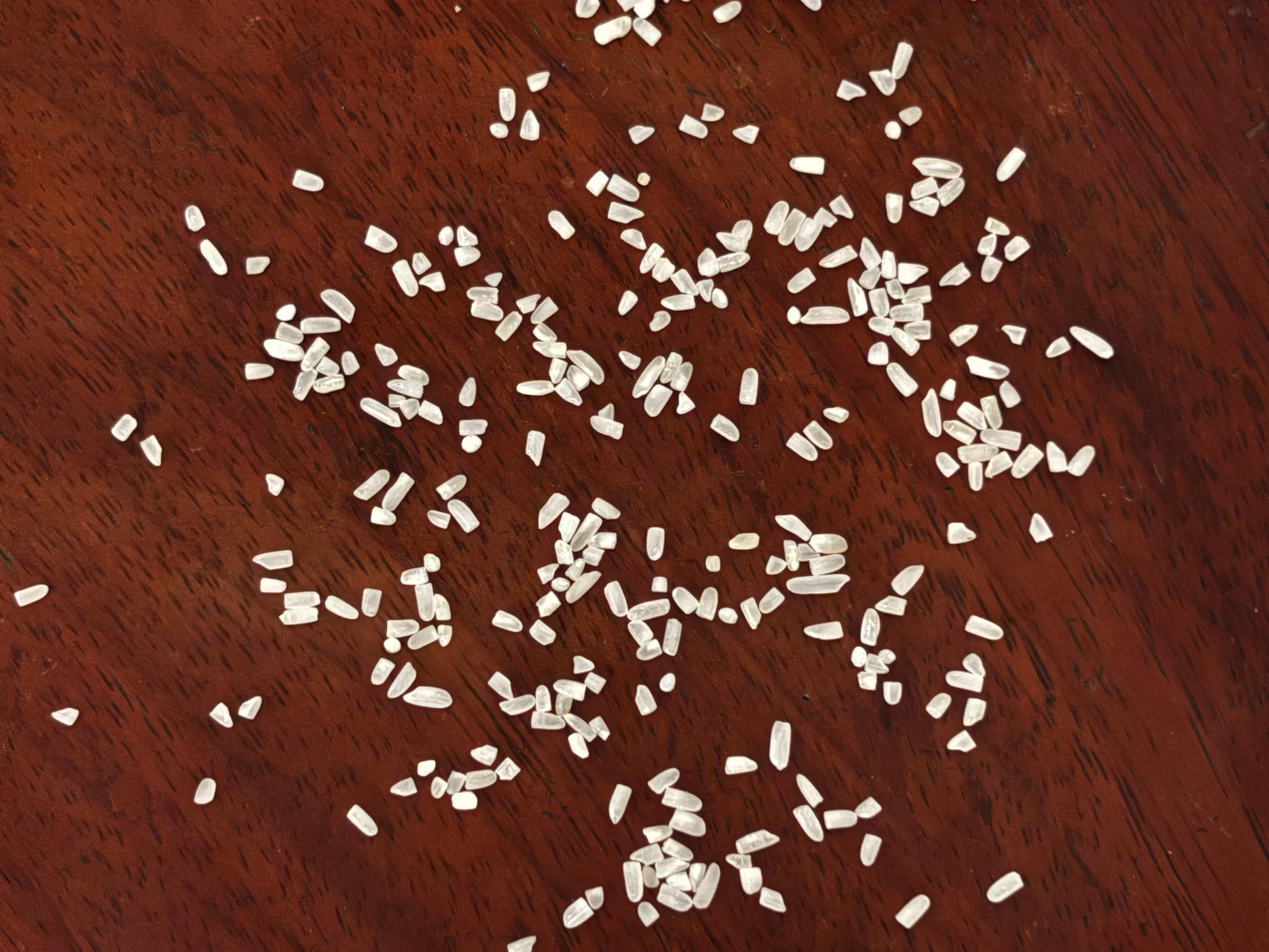Rice-th-y-nh: (785, 565, 851, 606), (761, 719, 798, 772), (403, 678, 453, 717), (912, 150, 964, 186), (689, 862, 727, 911), (565, 345, 608, 387), (697, 246, 751, 279), (631, 352, 667, 401), (978, 419, 1023, 457), (1069, 323, 1115, 360), (985, 867, 1025, 908), (915, 388, 947, 439), (735, 824, 779, 861), (801, 299, 850, 332), (380, 470, 416, 514), (569, 510, 604, 555), (894, 891, 932, 932), (791, 801, 827, 844), (626, 593, 671, 627), (667, 804, 707, 842), (535, 490, 571, 532), (661, 781, 703, 817), (1009, 440, 1044, 483), (445, 496, 482, 536), (964, 609, 1004, 646), (889, 560, 925, 601), (617, 858, 649, 904), (319, 286, 357, 324), (263, 333, 305, 367), (965, 353, 1011, 384), (359, 396, 402, 429), (565, 568, 602, 606), (775, 207, 810, 247), (604, 782, 636, 825), (656, 881, 694, 917), (818, 240, 858, 274), (592, 13, 633, 46), (884, 361, 920, 398), (352, 468, 391, 502), (363, 221, 398, 258), (792, 215, 825, 254), (601, 579, 633, 619), (773, 511, 814, 542), (957, 438, 999, 468), (253, 545, 295, 575), (941, 415, 978, 449), (561, 894, 594, 932), (945, 665, 984, 697), (386, 661, 418, 700), (642, 381, 674, 420), (808, 549, 847, 581), (299, 310, 342, 339), (804, 615, 844, 646), (279, 600, 319, 631), (842, 277, 872, 318), (345, 803, 380, 838), (562, 710, 598, 744), (299, 335, 331, 373), (994, 146, 1026, 184), (499, 689, 537, 721), (606, 197, 644, 229), (809, 527, 848, 558), (855, 607, 885, 647), (734, 366, 763, 407), (762, 198, 792, 237), (391, 258, 420, 298), (887, 41, 916, 81), (955, 400, 990, 433), (646, 764, 681, 797), (411, 582, 439, 623), (290, 365, 320, 403), (516, 373, 555, 402), (282, 585, 321, 614), (801, 419, 835, 452), (661, 833, 695, 866), (659, 617, 687, 657), (937, 259, 972, 291), (605, 172, 641, 203), (794, 772, 824, 809), (530, 706, 567, 736), (199, 238, 228, 276), (694, 585, 723, 623), (888, 325, 921, 358), (785, 430, 819, 462), (670, 583, 702, 617), (977, 393, 1006, 430), (641, 525, 670, 562), (856, 831, 885, 868), (867, 66, 899, 99), (553, 674, 587, 705), (823, 804, 858, 834), (630, 838, 665, 868), (790, 151, 826, 180), (521, 429, 549, 466), (983, 448, 1014, 481), (935, 176, 966, 209), (491, 606, 524, 637), (464, 765, 498, 795), (959, 695, 989, 729), (757, 883, 787, 917), (1066, 444, 1096, 478), (874, 590, 908, 620), (1026, 511, 1056, 545), (661, 288, 696, 317), (855, 236, 884, 271), (723, 750, 758, 779), (889, 298, 924, 327), (385, 613, 420, 642), (654, 854, 690, 882), (468, 298, 504, 326), (945, 518, 977, 549), (486, 669, 516, 702), (407, 623, 440, 653), (895, 258, 928, 288), (528, 616, 558, 649), (531, 337, 569, 363), (387, 375, 425, 401), (494, 309, 523, 343), (324, 594, 360, 621), (948, 319, 979, 350), (631, 16, 662, 47), (909, 172, 940, 203), (709, 412, 741, 442), (436, 472, 468, 502), (924, 689, 953, 722), (737, 864, 766, 897), (757, 584, 786, 617), (1042, 440, 1070, 474), (632, 683, 660, 717), (738, 596, 765, 631), (589, 414, 624, 441), (658, 350, 685, 385), (669, 360, 696, 395), (494, 86, 520, 122), (553, 377, 584, 407), (625, 617, 655, 648), (946, 726, 977, 756), (547, 209, 576, 241), (835, 75, 867, 104), (534, 588, 562, 621), (715, 228, 748, 256), (901, 281, 934, 309), (313, 370, 346, 398), (638, 241, 665, 275), (555, 509, 582, 543), (866, 285, 893, 319), (670, 268, 700, 298), (13, 583, 49, 608), (1002, 233, 1031, 264), (274, 319, 305, 348), (469, 740, 500, 769), (516, 109, 543, 142), (397, 362, 431, 388), (529, 297, 559, 326), (787, 266, 817, 295), (853, 793, 883, 822), (903, 316, 934, 344), (678, 113, 709, 141), (933, 449, 961, 480), (961, 650, 989, 681), (642, 820, 674, 847), (728, 528, 760, 555), (358, 586, 385, 618), (369, 655, 396, 687), (997, 378, 1023, 411), (695, 245, 721, 278), (882, 191, 907, 225), (867, 312, 897, 340), (635, 899, 662, 930), (650, 254, 677, 285), (590, 496, 622, 522), (978, 253, 1004, 285), (457, 413, 489, 439), (729, 216, 755, 248), (139, 434, 164, 467), (466, 280, 499, 305), (450, 787, 479, 815), (110, 413, 138, 442), (856, 262, 884, 291), (453, 242, 482, 270), (1045, 333, 1073, 362), (244, 358, 275, 384), (685, 860, 710, 892), (908, 194, 941, 218), (636, 636, 664, 664), (494, 755, 522, 783), (619, 226, 648, 253), (588, 528, 618, 554), (456, 376, 480, 408), (417, 399, 445, 426), (732, 121, 760, 148), (880, 678, 906, 707), (865, 339, 891, 368), (390, 774, 419, 800), (373, 340, 399, 369), (429, 593, 454, 623), (713, 0, 743, 25), (779, 538, 801, 572), (963, 461, 987, 492), (1001, 320, 1028, 347), (244, 251, 271, 278), (828, 193, 854, 221), (337, 349, 363, 377), (419, 269, 447, 295), (551, 538, 576, 567), (566, 364, 591, 393), (399, 565, 429, 589), (193, 776, 217, 806), (878, 249, 901, 280), (531, 683, 554, 714), (314, 353, 340, 380), (811, 205, 838, 231), (898, 102, 924, 129), (582, 884, 607, 912), (725, 849, 753, 874), (983, 214, 1011, 239), (546, 356, 569, 386), (665, 870, 695, 893), (580, 543, 606, 569), (700, 100, 726, 126), (863, 652, 890, 677), (209, 702, 234, 729), (648, 308, 673, 335), (583, 669, 608, 696), (238, 694, 263, 721), (585, 170, 610, 197), (183, 204, 207, 232), (567, 731, 590, 760), (694, 275, 717, 304), (505, 932, 538, 952), (397, 395, 422, 421), (764, 553, 790, 578), (426, 506, 452, 531), (975, 231, 999, 258), (443, 769, 467, 796), (616, 289, 639, 317), (822, 403, 850, 426), (369, 505, 397, 528), (258, 575, 288, 596), (571, 652, 596, 677), (516, 292, 542, 316), (794, 541, 820, 565), (588, 714, 612, 740), (410, 250, 433, 277), (564, 557, 587, 584), (674, 390, 697, 417), (617, 348, 642, 372), (455, 224, 479, 248), (883, 277, 906, 302), (856, 668, 879, 693), (526, 70, 551, 93), (50, 707, 80, 726), (532, 322, 559, 343), (628, 124, 655, 145), (574, 0, 602, 20), (537, 561, 560, 585), (938, 377, 959, 403), (640, 864, 661, 890), (263, 473, 286, 496), (709, 286, 731, 310), (656, 670, 678, 694), (275, 301, 297, 325), (428, 775, 449, 800), (460, 433, 483, 455), (849, 644, 870, 668), (434, 623, 455, 647), (717, 605, 740, 626), (416, 756, 437, 779), (422, 552, 443, 575), (633, 0, 657, 20), (550, 573, 572, 594), (436, 224, 455, 248), (614, 0, 649, 13), (883, 119, 903, 141), (597, 400, 617, 422), (382, 635, 403, 655), (650, 574, 670, 595), (489, 120, 510, 140), (877, 647, 897, 666), (704, 553, 722, 574), (483, 270, 504, 288), (386, 391, 407, 409), (785, 305, 803, 325), (796, 0, 825, 12), (635, 170, 652, 188)
